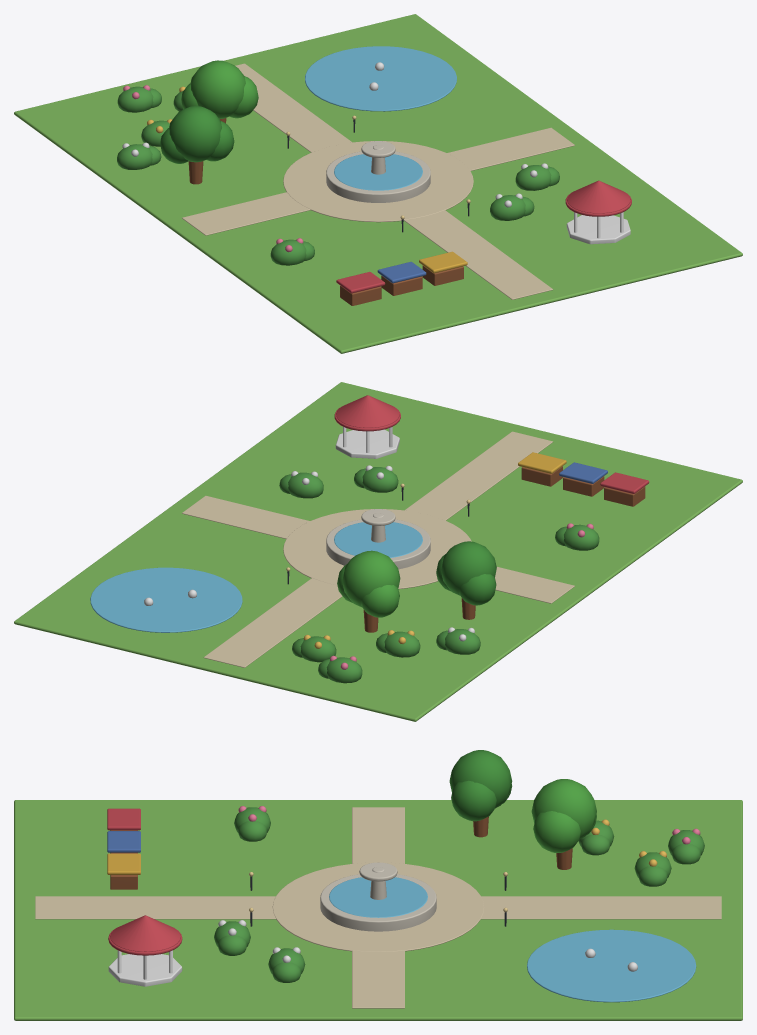
Rendered from centre.glb.
The picture shows the model from 3 angles, top to bottom: view 1: azimuth 30°, elevation 25°; view 2: azimuth 150°, elevation 25°; view 3: azimuth 270°, elevation 25°; orthographic projection. The views are drawn at different scales.
Visible parts, largest first — view 1: Cube; view 2: Cube; view 3: Cube.
Part boxes in pixels (x1,y1,x2,y2): Cube: [14, 14, 742, 353]; Cube: [14, 382, 742, 721]; Cube: [14, 750, 742, 1020].
Size of the model in its own units: 4.88 by 0.9621 by 6.88.
